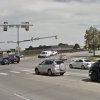Traffic light: (3, 14, 40, 38)
